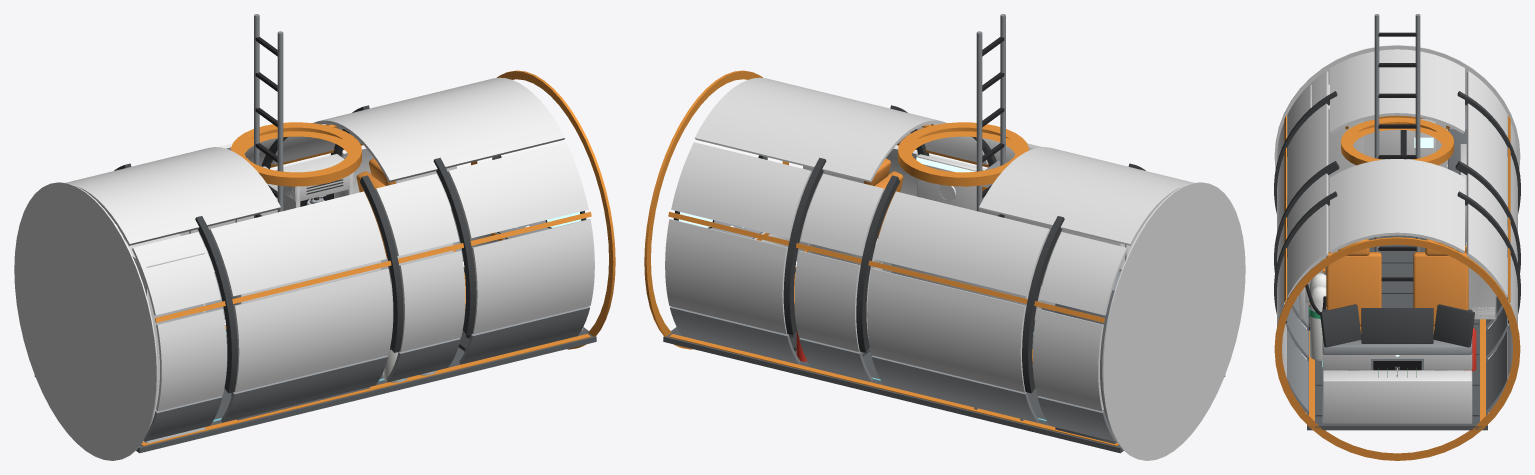
Rendered from SM_Sub2_Interior_Repaired.fbx.
The picture shows the model from 3 angles, left to right: view 1: azimuth 30°, elevation 25°; view 2: azimuth 150°, elevation 25°; view 3: azimuth 270°, elevation 25°; orthographic projection. The views are drawn at different scales.
Parts seen in each view (by area): view 1: SM_Sub2_Interior_Repaired; view 2: SM_Sub2_Interior_Repaired; view 3: SM_Sub2_Interior_Repaired.
Boxes of the visible parts, x1,y1,x2,y2 form: SM_Sub2_Interior_Repaired: (14,14,615,460); SM_Sub2_Interior_Repaired: (644,14,1245,460); SM_Sub2_Interior_Repaired: (1274,14,1520,460).
Bounding box in the file's own units: 3.82 × 3.02 × 2.05.
